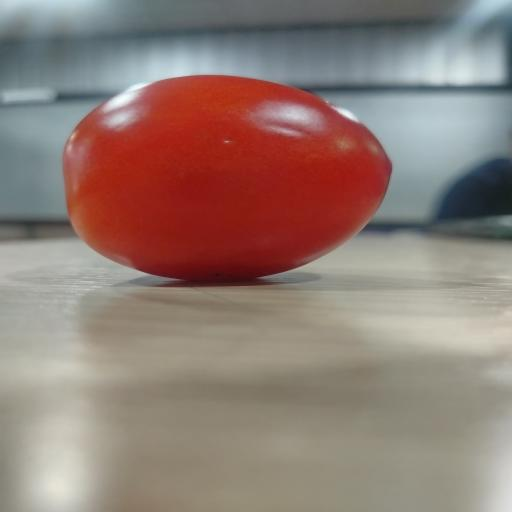ripe: (63, 76, 391, 280)
